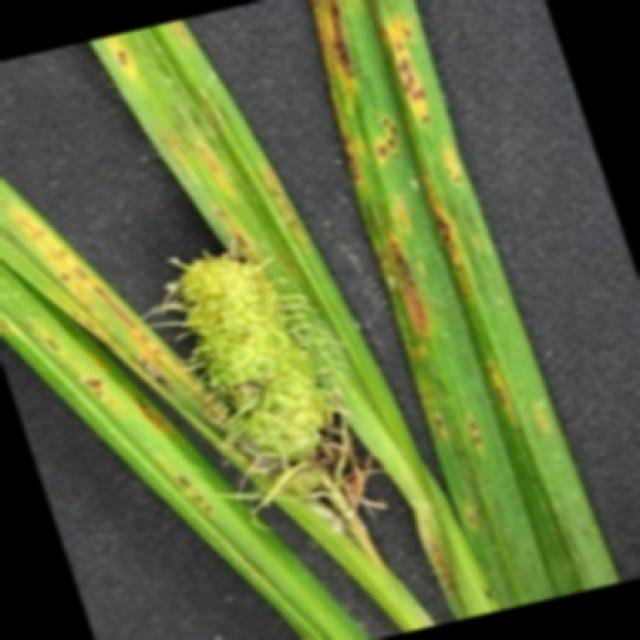Elderberry_rust: (139, 158, 640, 512)
